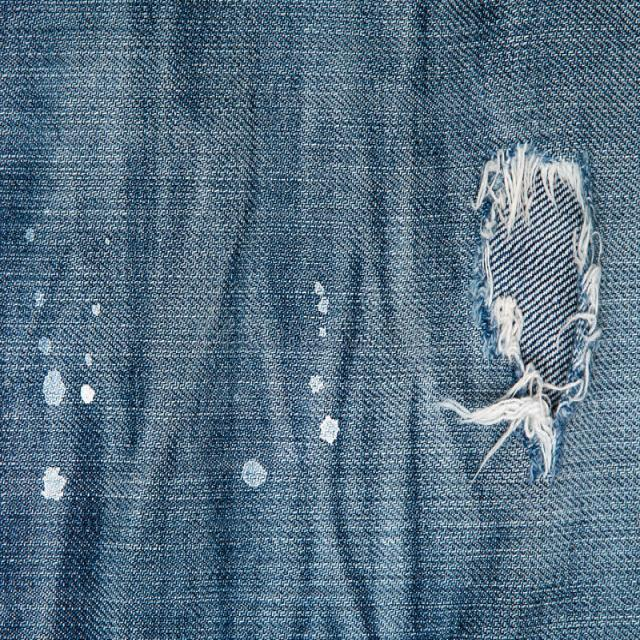Hole: (442, 144, 602, 480)
Stain: (313, 281, 331, 340), (41, 468, 67, 502), (42, 370, 66, 406), (242, 460, 268, 488), (320, 416, 340, 444), (37, 337, 53, 356), (31, 290, 46, 310), (80, 385, 95, 405), (309, 376, 325, 394), (23, 227, 36, 244), (89, 303, 103, 318), (83, 351, 94, 368)
